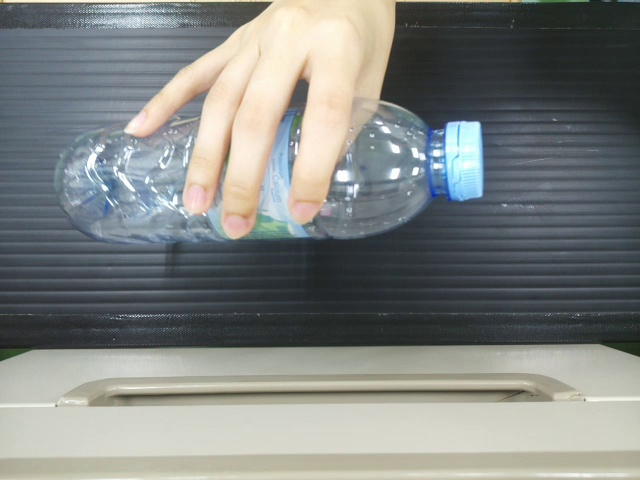bottle: (318, 98, 495, 237), (55, 121, 187, 246)
